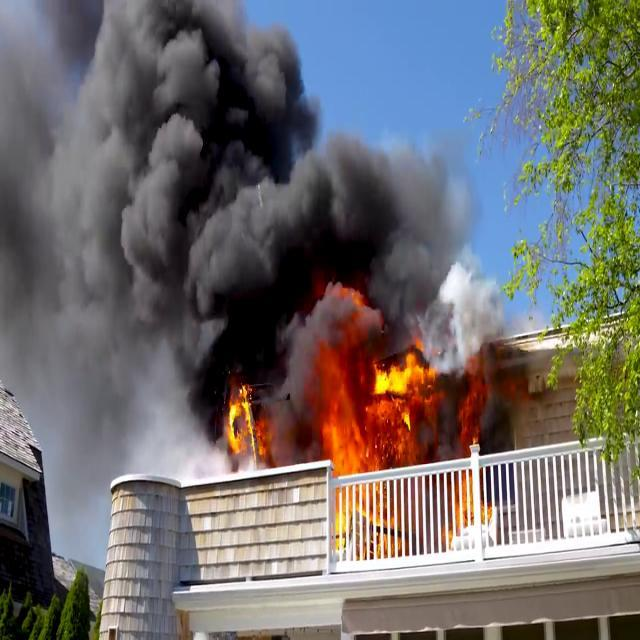Fire: (318, 331, 433, 478), (218, 371, 263, 464)
Smoke: (0, 0, 437, 416), (426, 264, 560, 460)
